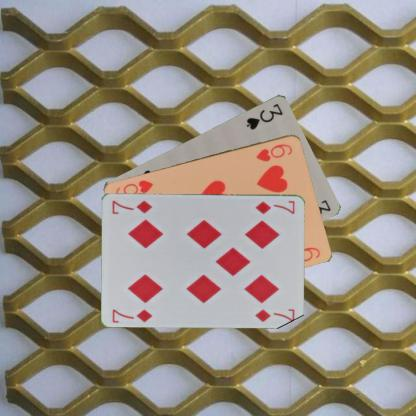3s: (244, 101, 284, 131)
6h: (254, 141, 294, 163)
7d: (110, 306, 154, 324), (253, 198, 296, 215)
